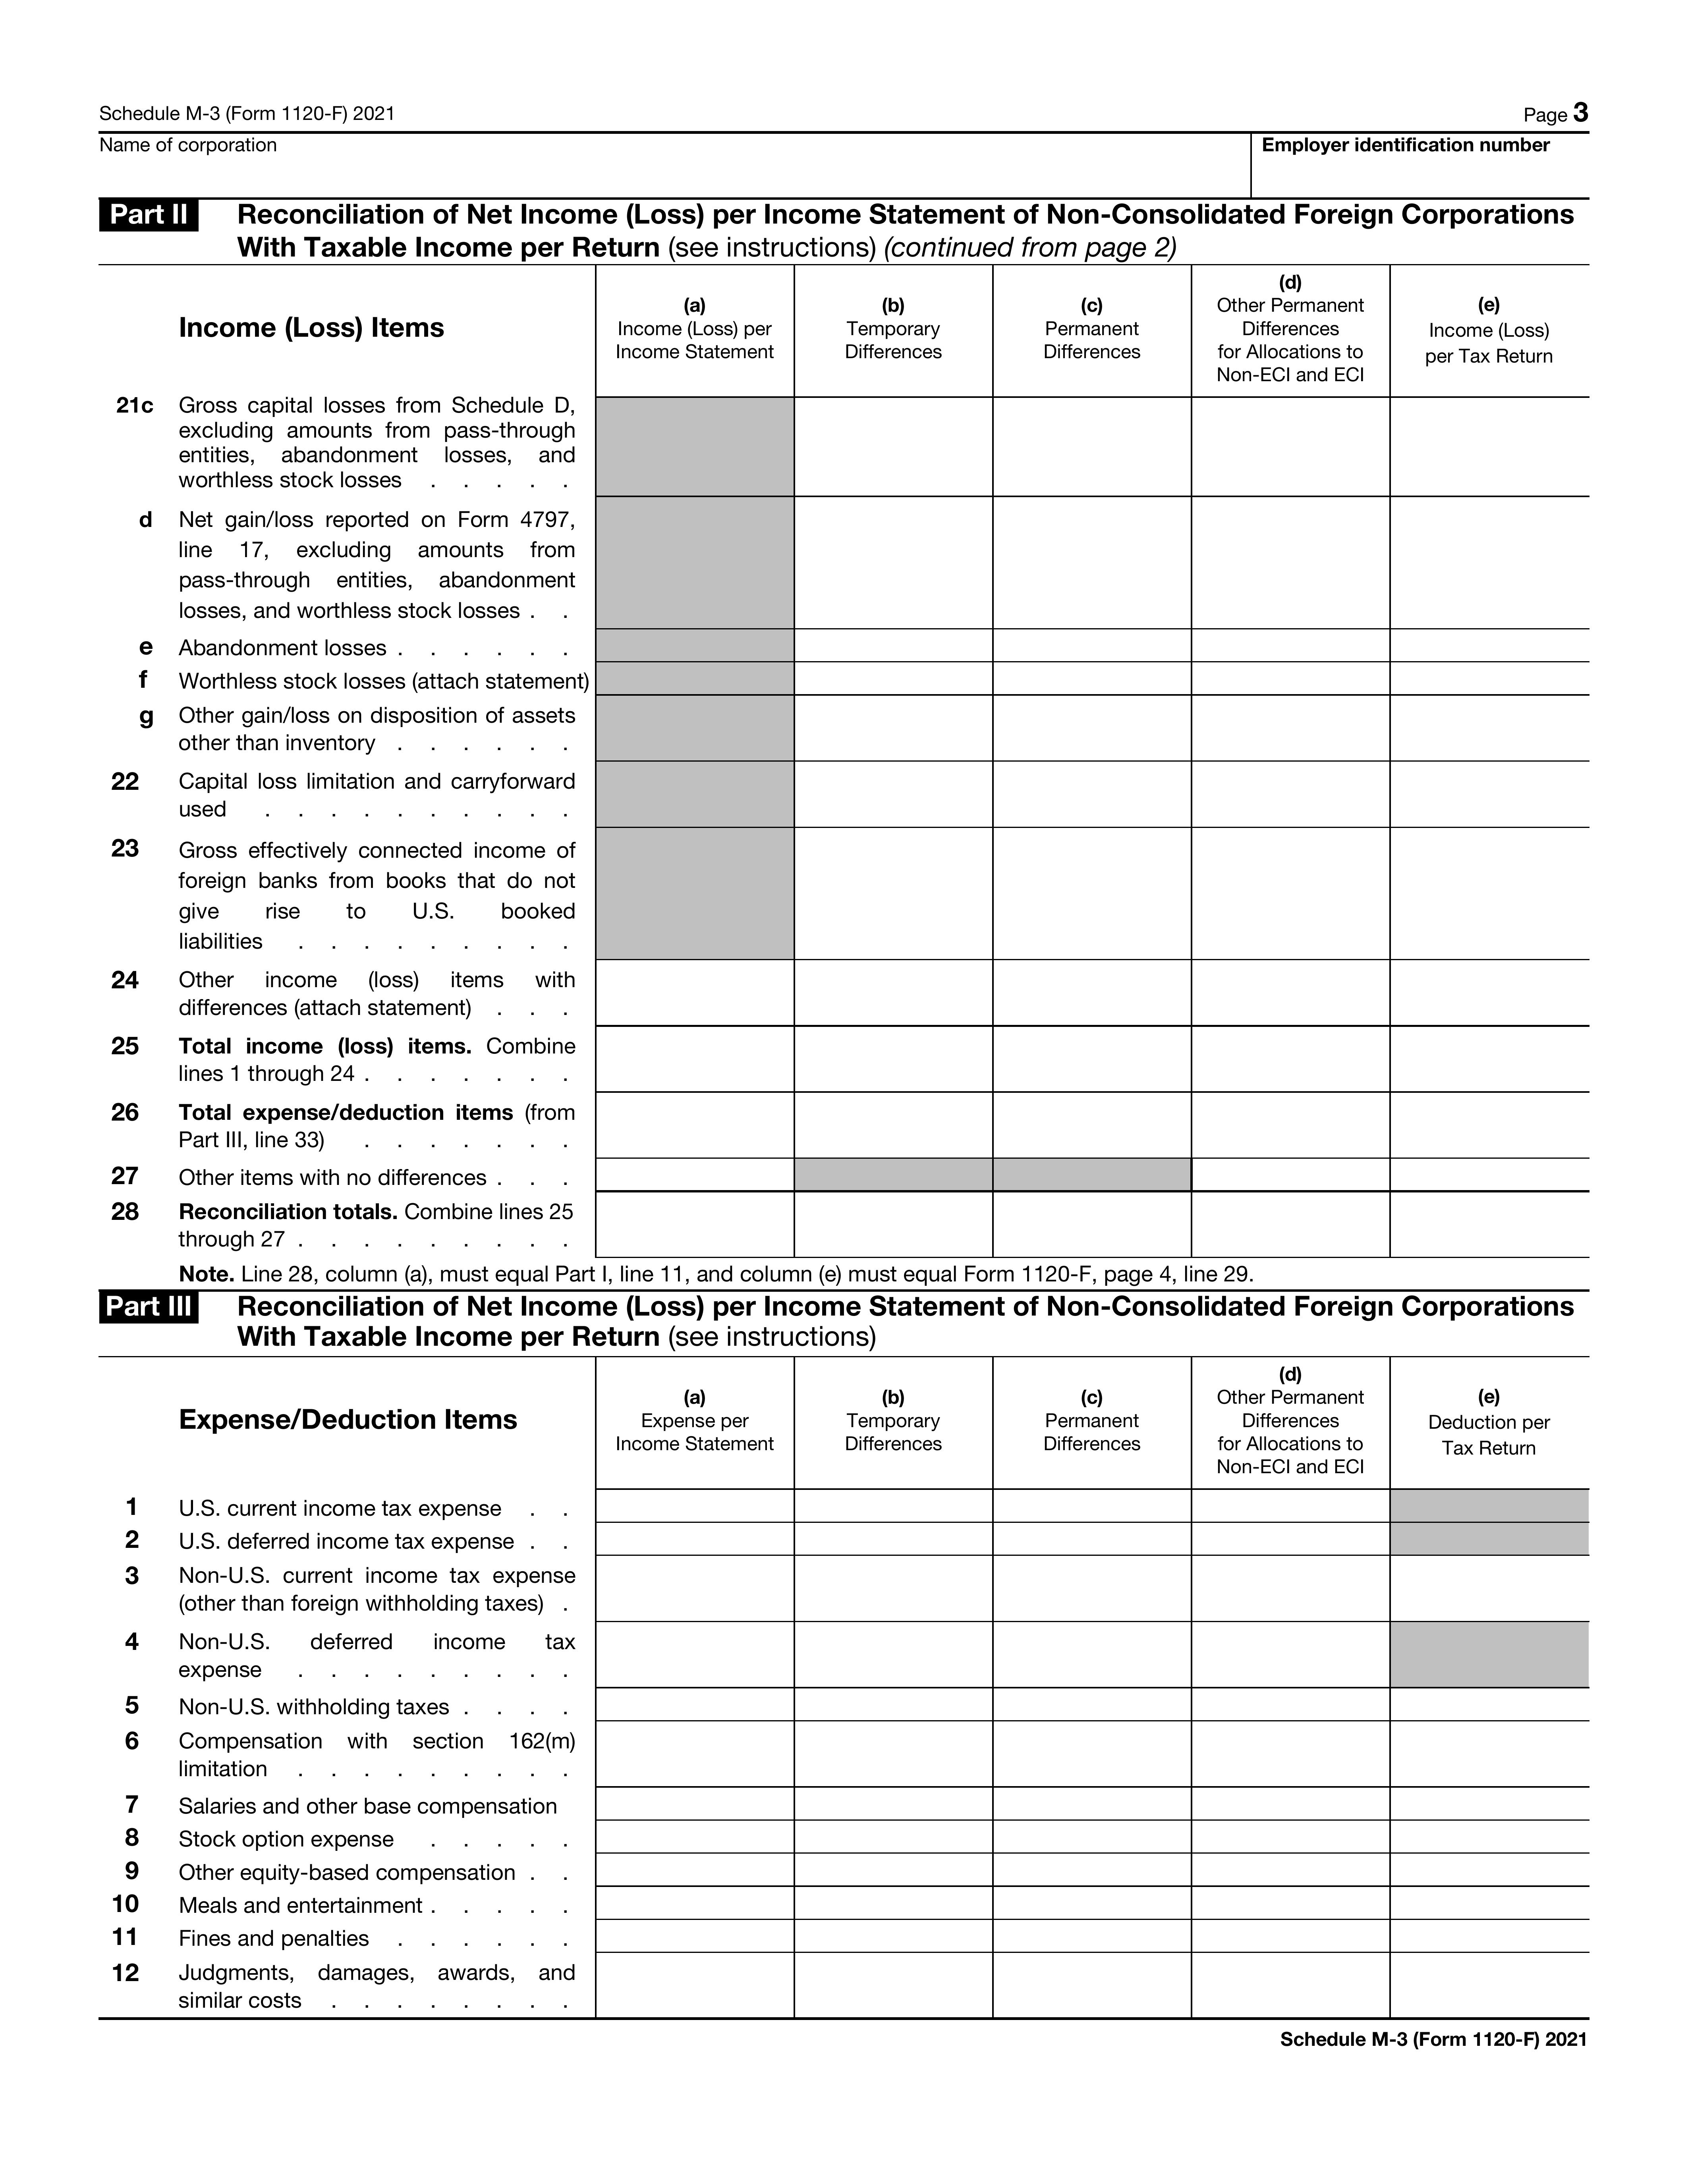table: (83, 266, 1635, 1257), (67, 1358, 1629, 2024)
